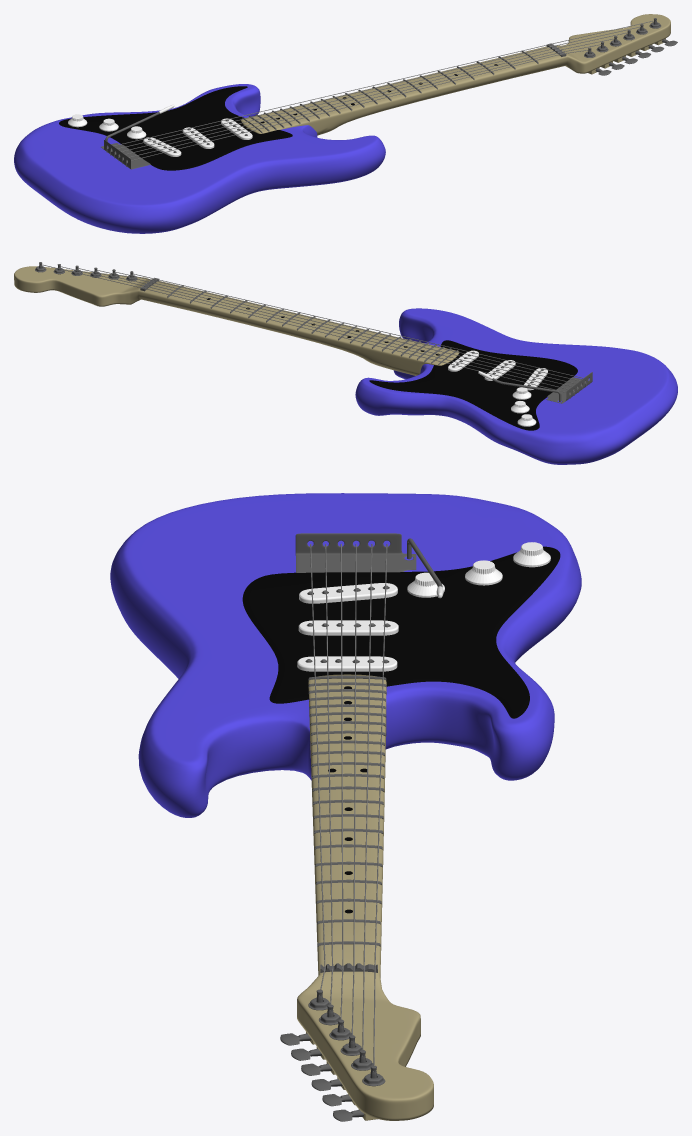
File: guitarra.glb
The picture shows the model from 3 angles, top to bottom: view 1: azimuth 30°, elevation 25°; view 2: azimuth 150°, elevation 25°; view 3: azimuth 270°, elevation 25°; orthographic projection. The views are drawn at different scales.
Visible parts, largest first — view 1: Cuerpo, Mastil, Golpeador, Pastillas, Trastes, Cuerda1, Cuerda2, Clavijas, Cuerda3, Cuerda4, Puente, Cuerda5 (+3 smaller); view 2: Cuerpo, Mastil, Golpeador, Trastes, Pastillas, Cuerda1, Cuerda2, Cuerda3, Cuerda4, Puente, Cuerda5, Cuerda6 (+2 smaller); view 3: Cuerpo, Mastil, Golpeador, Trastes, Pastillas, Puente, Perillas, Clavijas, Clavijeros, Cuerda1, Cuerda2, Cuerda3.
Boxes of the visible parts, <box> form: Cuerpo: <box>14,84,385,233</box>; Mastil: <box>241,14,670,135</box>; Golpeador: <box>59,86,292,170</box>; Pastillas: <box>143,118,252,156</box>; Trastes: <box>242,51,538,133</box>; Cuerda1: <box>106,20,653,152</box>; Cuerda2: <box>110,26,640,155</box>; Clavijas: <box>588,38,677,75</box>; Cuerda3: <box>114,32,627,158</box>; Cuerda4: <box>118,38,614,160</box>; Puente: <box>101,140,150,169</box>; Cuerda5: <box>122,44,601,163</box>; Cuerpo: <box>355,308,677,464</box>; Mastil: <box>14,266,459,375</box>; Golpeador: <box>369,340,577,430</box>; Trastes: <box>167,285,458,364</box>; Pastillas: <box>448,350,547,390</box>; Cuerda1: <box>41,264,570,398</box>; Cuerda2: <box>60,266,574,395</box>; Cuerda3: <box>78,268,578,392</box>; Cuerda4: <box>97,270,582,389</box>; Puente: <box>546,372,592,403</box>; Cuerda5: <box>115,271,586,386</box>; Cuerda6: <box>133,273,589,384</box>; Cuerpo: <box>110,493,581,817</box>; Mastil: <box>297,674,433,1120</box>; Golpeador: <box>242,546,560,718</box>; Trastes: <box>308,675,386,946</box>; Pastillas: <box>297,583,398,671</box>; Puente: <box>295,533,416,572</box>; Perillas: <box>407,542,550,597</box>; Clavijas: <box>280,1032,377,1121</box>; Clavijeros: <box>308,989,385,1086</box>; Cuerda1: <box>373,544,387,1065</box>; Cuerda2: <box>362,544,372,1049</box>; Cuerda3: <box>351,544,356,1035</box>.
Bounding box in the file's own units: 1.19 × 0.0844 × 0.3899.
